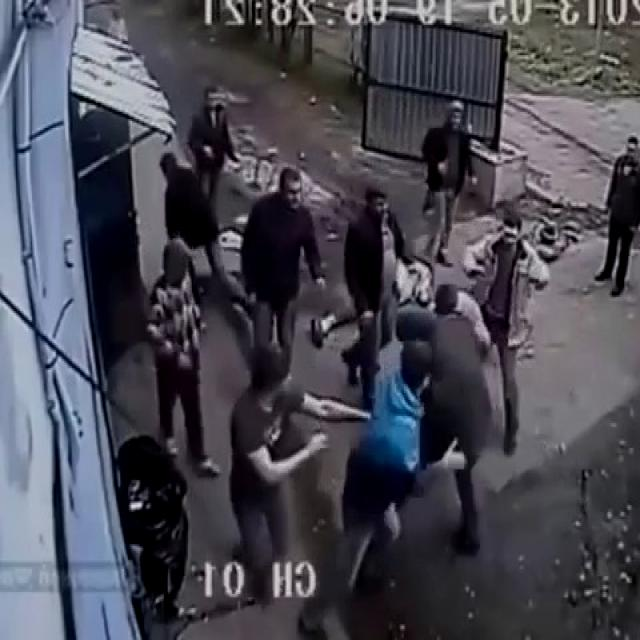fight: (331, 190, 531, 473)
